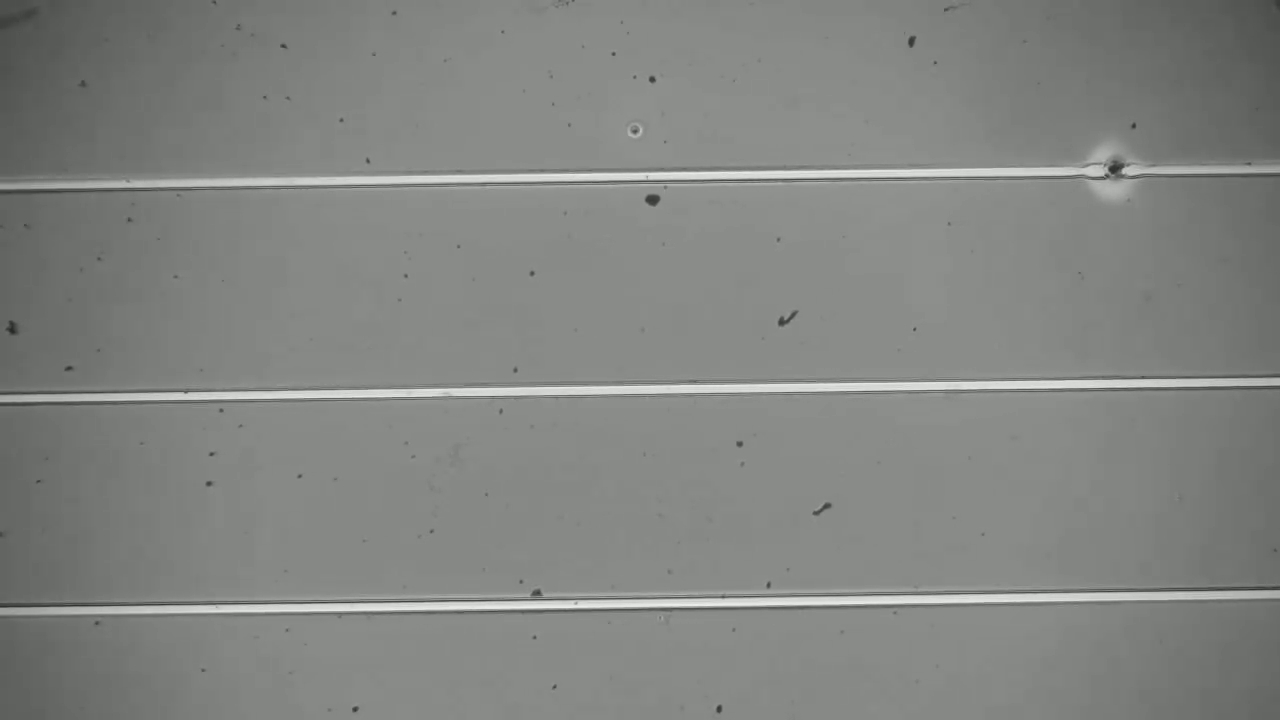stains_enbedded: (1095, 145, 1139, 199)
